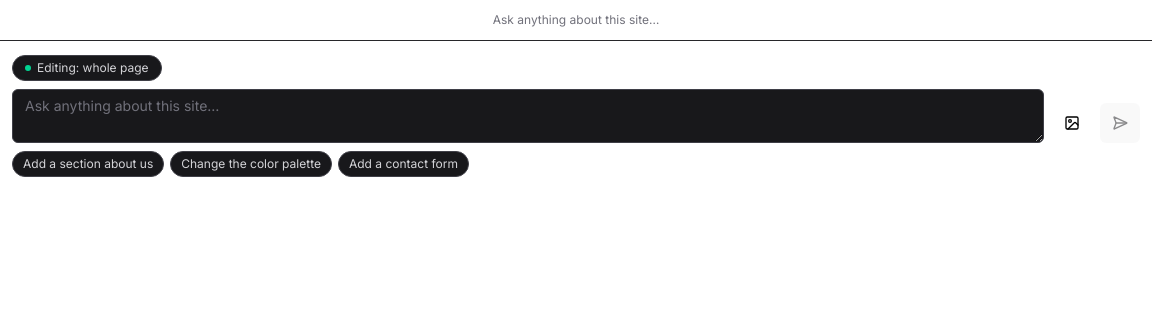
RightSidebarAiChat › Sprint 14: assistant turn renders the [fixture] badge in dev mode when x-ai-source: fixture is present
Type "change the hero" into the text box with test id "composer-textarea". click: (528, 116)
box: [12,89,1044,143]
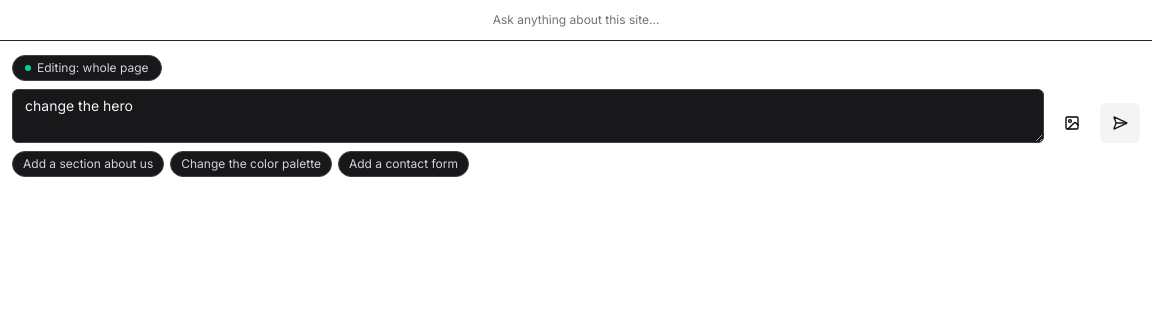
Click the button named "Send". click: (1120, 123)
box: [1100,103,1140,143]
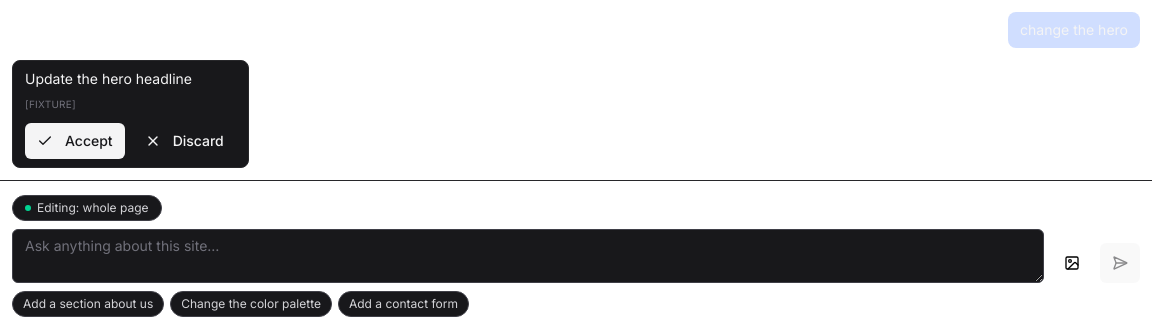
Check: the text box with test id "composer-textarea" is shown, box [12,229,1044,283]
Check: the element with test id "assistant-ok" is shown, box [12,60,249,168]
Check: the text with test id "ai-chat-turn-ai-source" reads "[fixture]", box [29,98,72,110]
